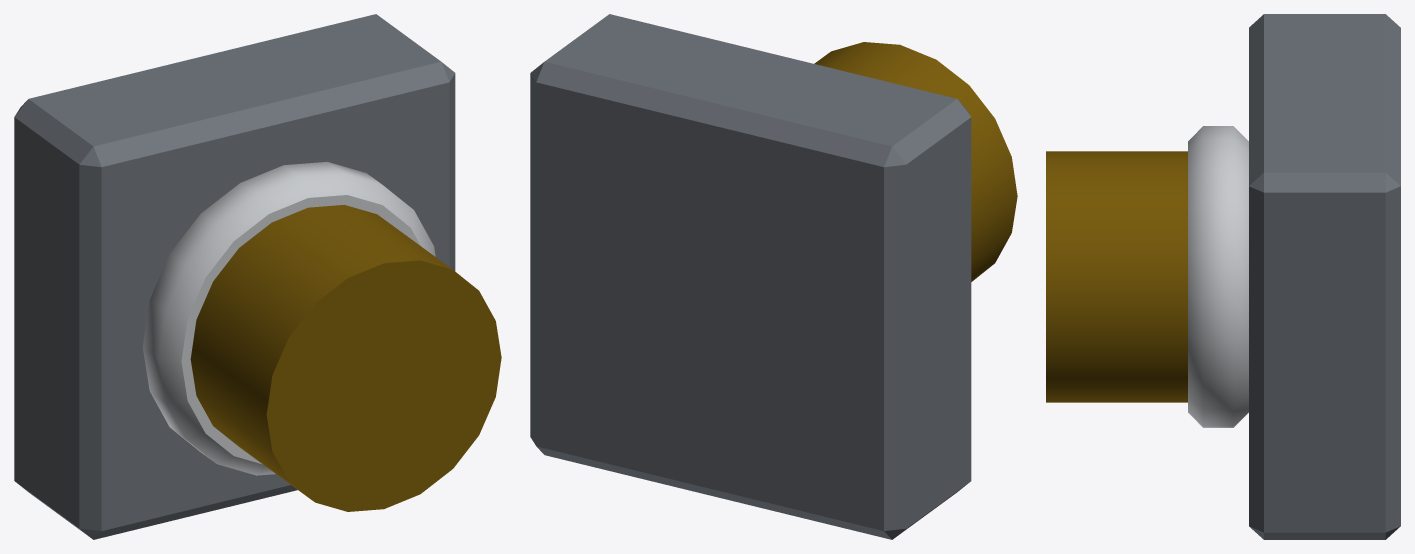
Rendered from light_indicator_yellow.glb.
3 views of the same model, side by side, from view 1: azimuth 30°, elevation 25°; view 2: azimuth 150°, elevation 25°; view 3: azimuth 270°, elevation 25° (orthographic). The views are drawn at different scales.
Visible parts, largest first — view 1: Indicator_Static, Lamp; view 2: Indicator_Static, Lamp; view 3: Indicator_Static, Lamp.
Part boxes in pixels (<box>): Indicator_Static: <box>14,14,455,539</box>; Lamp: <box>190,205,501,511</box>; Indicator_Static: <box>530,14,971,539</box>; Lamp: <box>814,42,1017,281</box>; Indicator_Static: <box>1188,14,1400,539</box>; Lamp: <box>1046,151,1187,402</box>.
Size of the model in its own units: 0.08 by 0.08 by 0.07.
